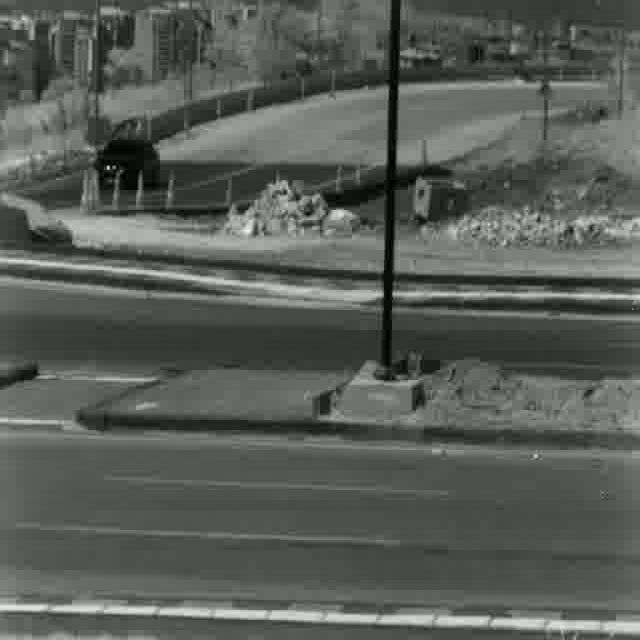Car: (95, 139, 160, 192)
